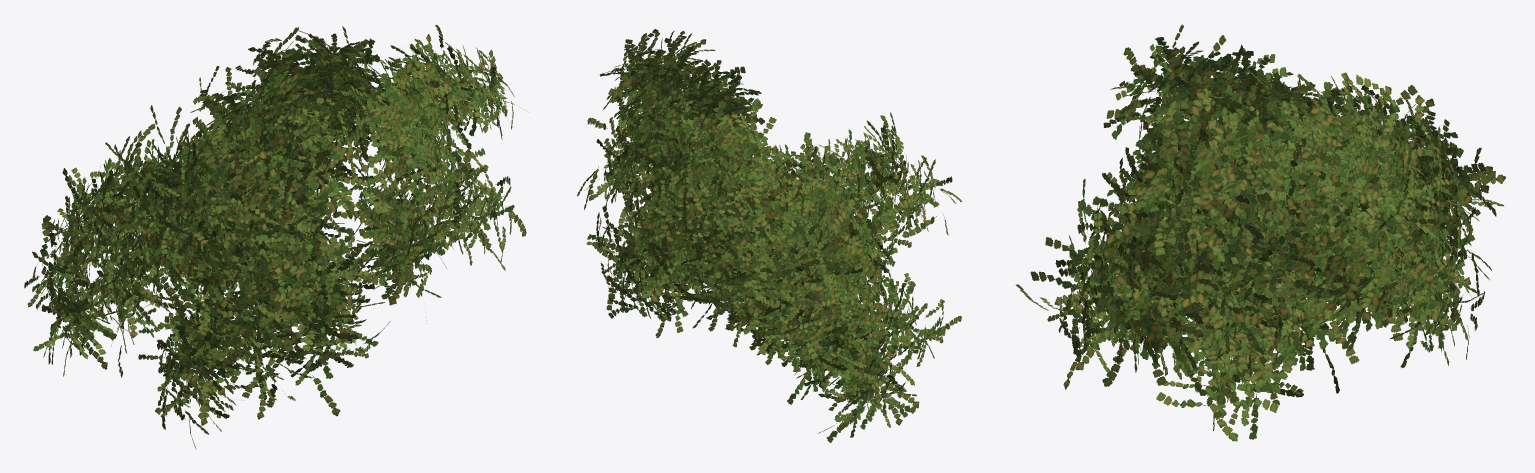
Rendered from SM_Tree_Oak_A_Leaves.fbx.
3 views of the same model, side by side, from view 1: azimuth 30°, elevation 25°; view 2: azimuth 150°, elevation 25°; view 3: azimuth 270°, elevation 25° (orthographic). The views are drawn at different scales.
Parts seen in each view (by area): view 1: Tree_Oak_A_Leaves; view 2: Tree_Oak_A_Leaves; view 3: Tree_Oak_A_Leaves.
Boxes of the visible parts, left/top/right/bottom form: Tree_Oak_A_Leaves: left=24, top=24, right=526, bottom=449; Tree_Oak_A_Leaves: left=577, top=29, right=961, bottom=442; Tree_Oak_A_Leaves: left=1016, top=24, right=1505, bottom=441.
Size of the model in its own units: 10.47 by 12.48 by 10.63.
Materials: 1 (1 with a texture image).
